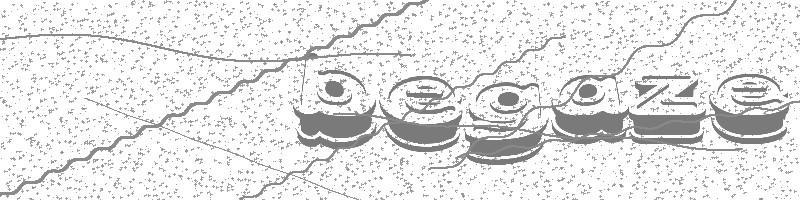a: (547, 70, 628, 145)
b: (292, 49, 380, 147)
e: (379, 70, 464, 148), (709, 70, 793, 147)
g: (464, 78, 546, 166)
z: (630, 72, 707, 147)
